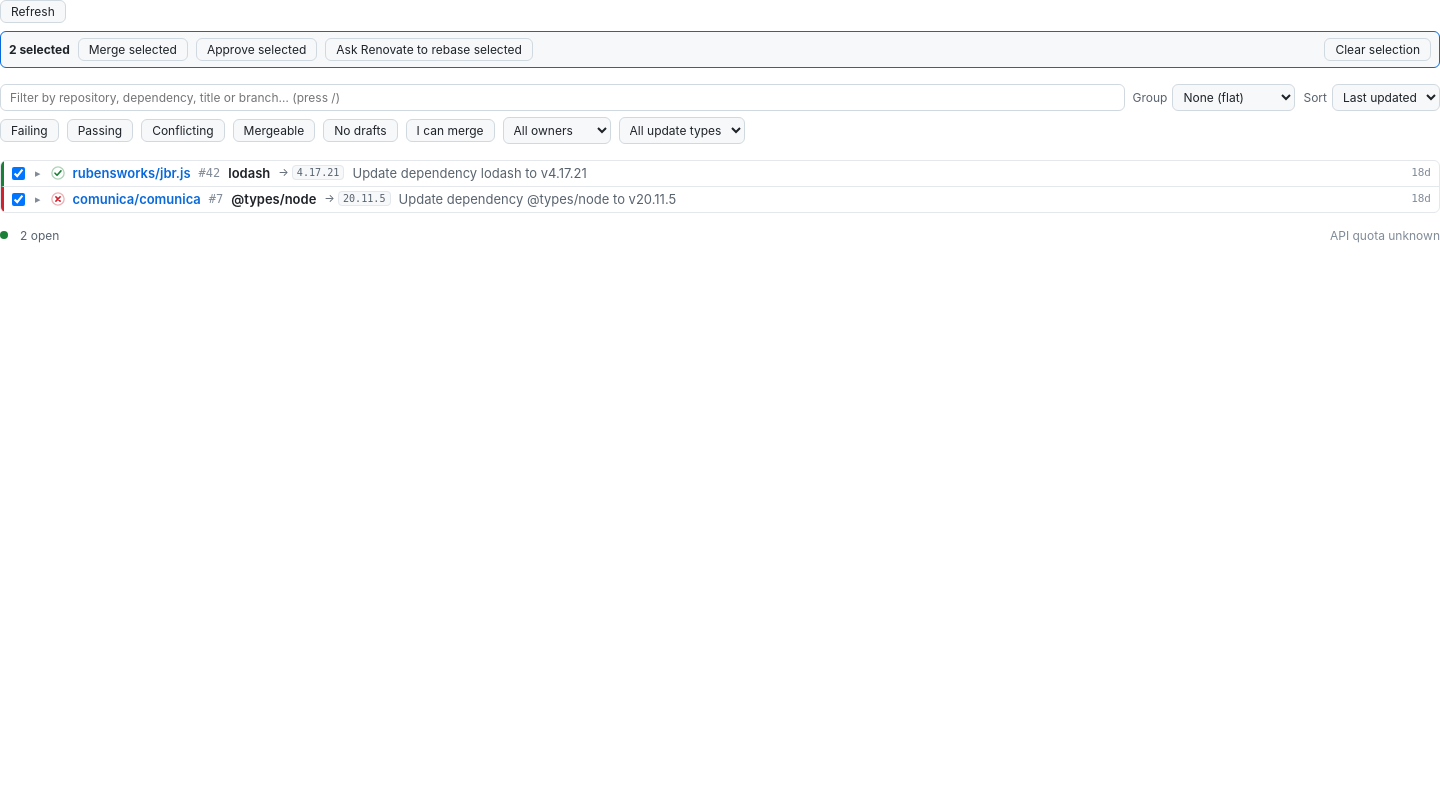
Test: Dashboard › actions › confirms before writing anything, naming the action and the count
Click the button "Merge selected" at (133, 50), box x1=78 y1=38 x2=188 y2=61
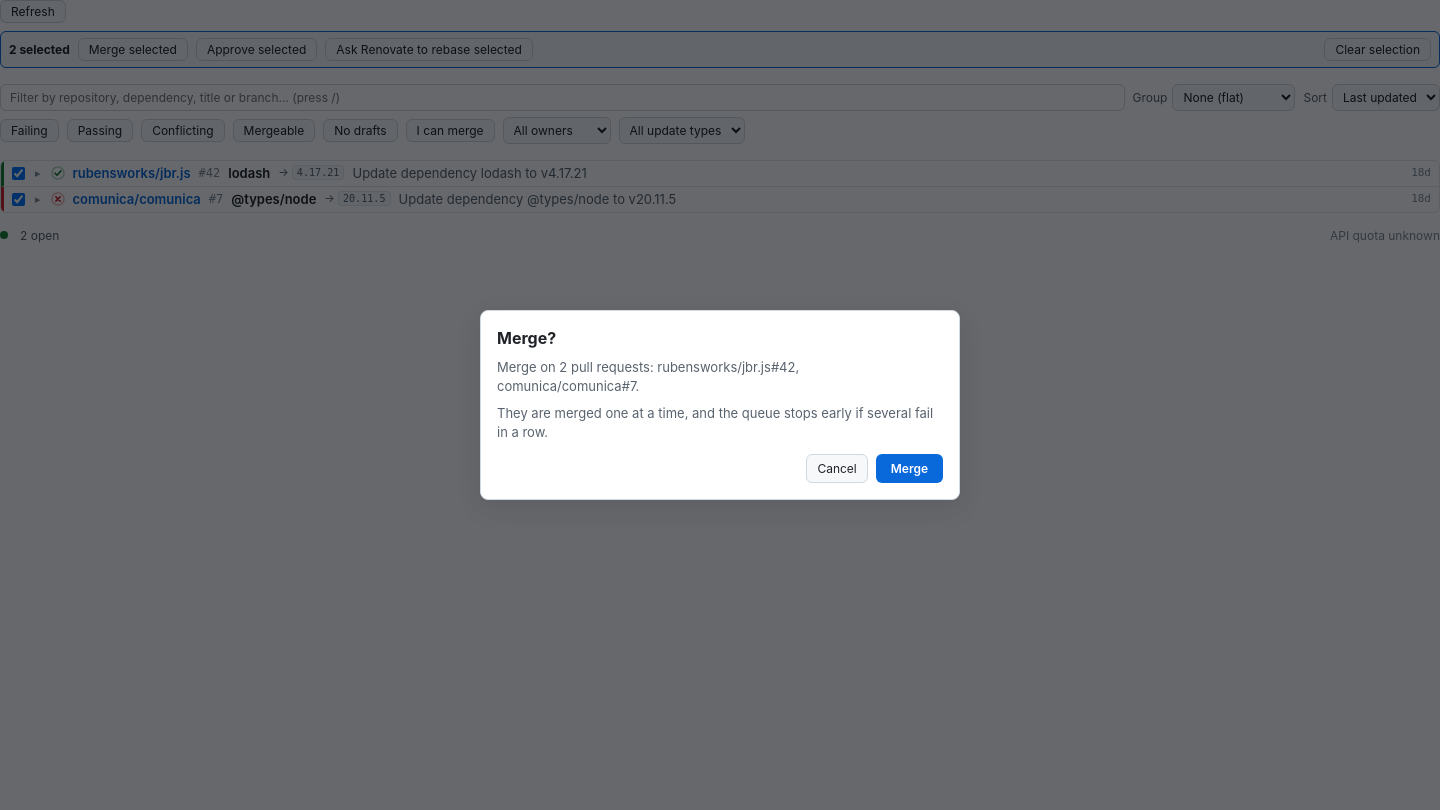
Expected: the dialog shows "Merge on 2 pull requests", x1=480 y1=310 x2=960 y2=500
Expected: the dialog shows "rubensworks/jbr.js#42", x1=497 y1=359 x2=799 y2=394
